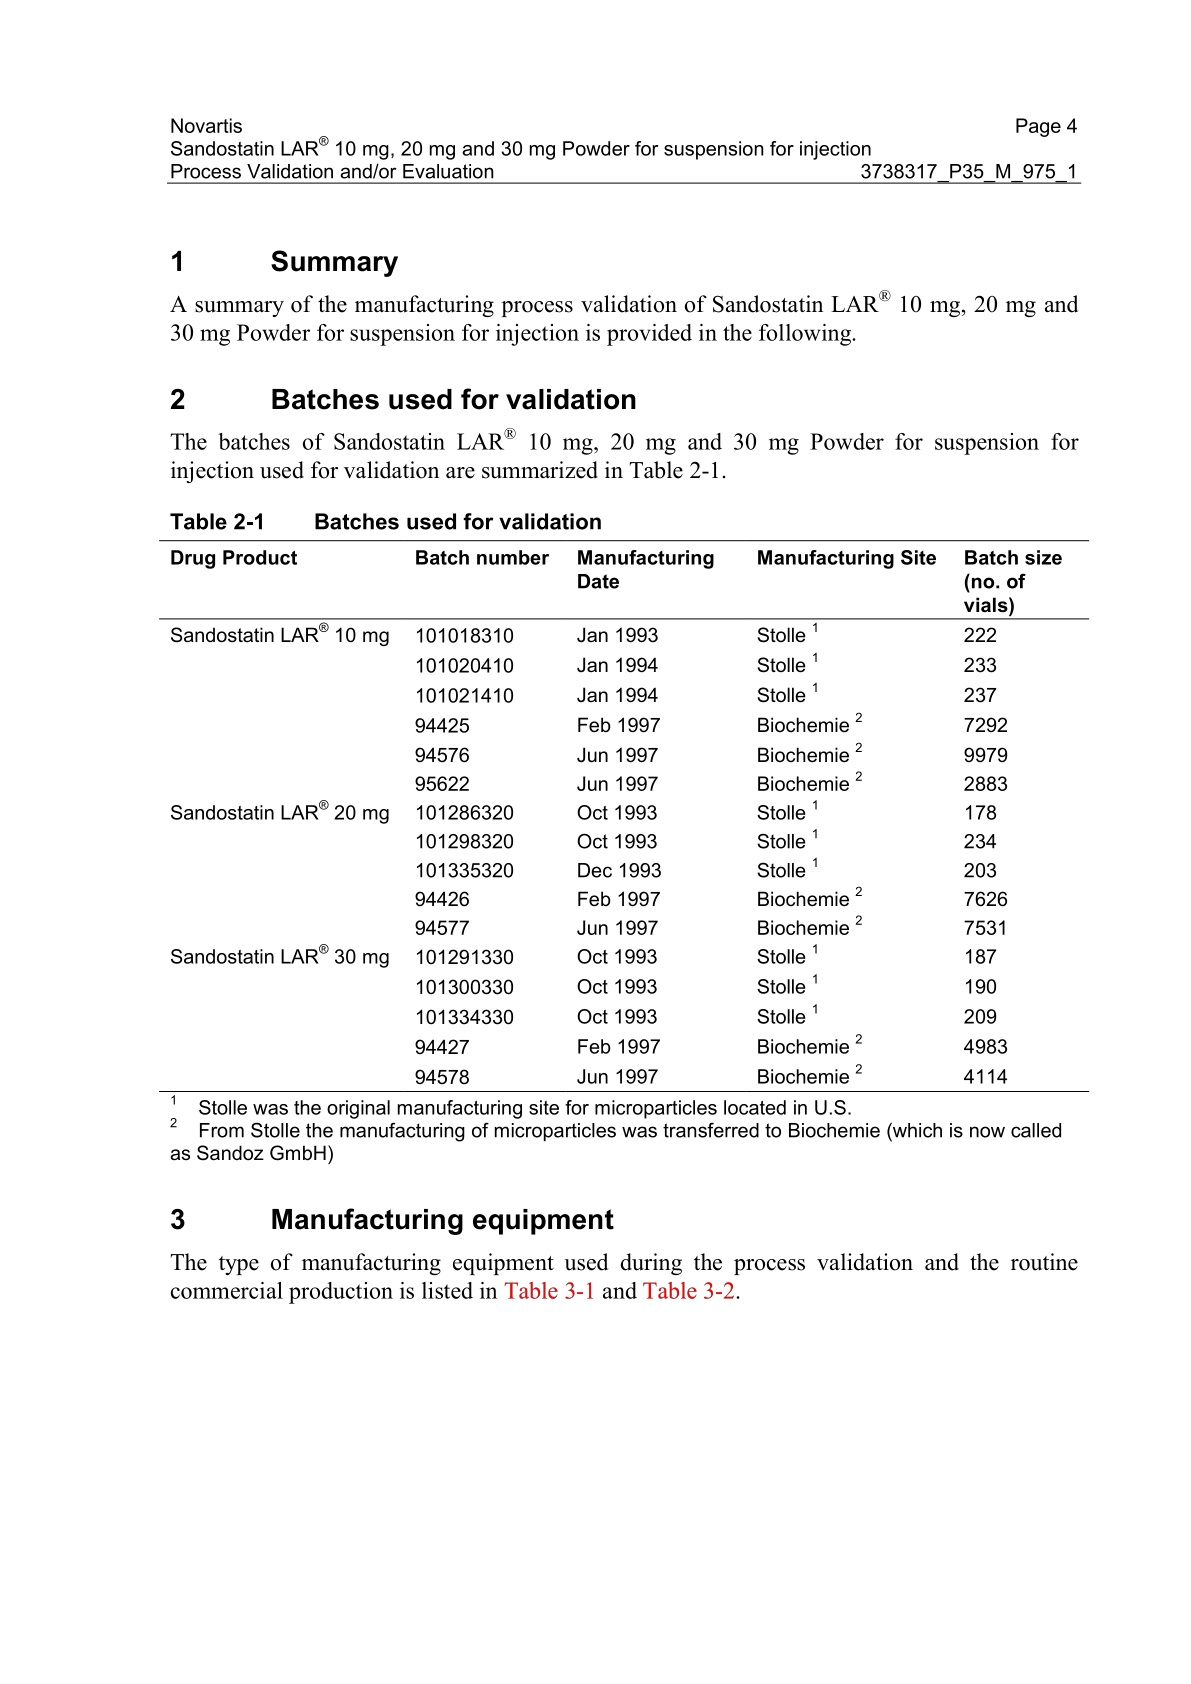partial_lined: (156, 539, 1088, 1093)
